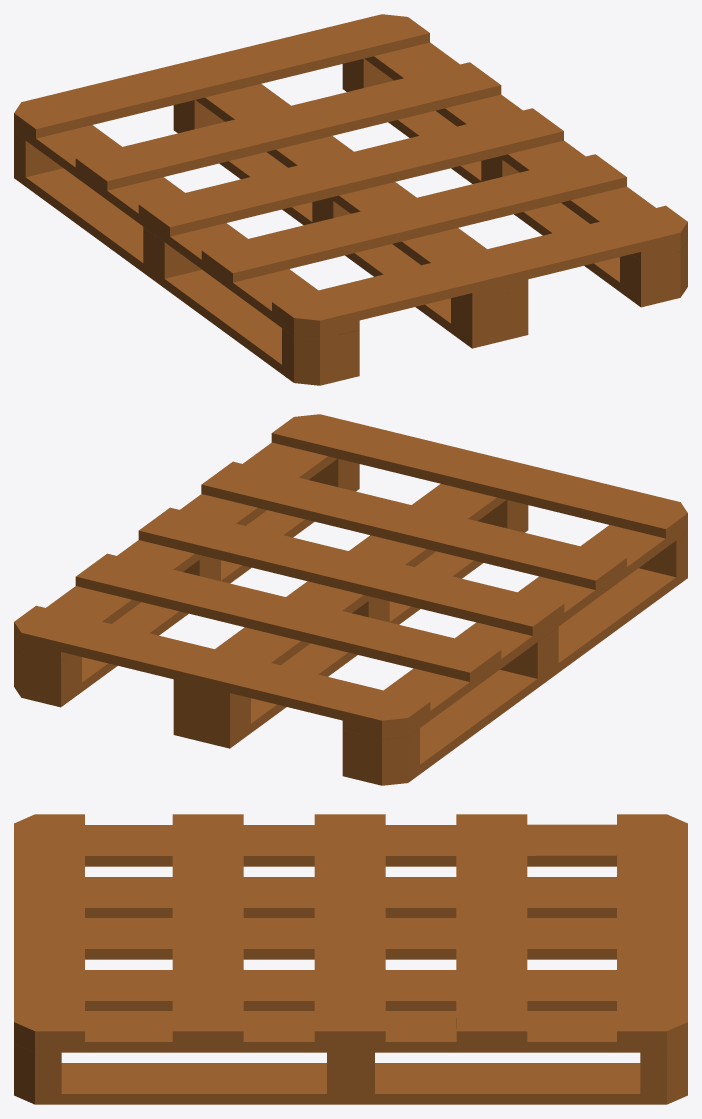
Rendered from Prop_Pallet_Small.fbx.
3 renders of one model, top to bottom at view 1: azimuth 30°, elevation 25°; view 2: azimuth 150°, elevation 25°; view 3: azimuth 270°, elevation 25°, orthographic. The views are drawn at different scales.
Visible parts, largest first — view 1: Prop_Pallet_Small; view 2: Prop_Pallet_Small; view 3: Prop_Pallet_Small.
Part boxes in pixels (bbox=[...]): Prop_Pallet_Small: bbox=[14, 14, 687, 385]; Prop_Pallet_Small: bbox=[14, 414, 687, 785]; Prop_Pallet_Small: bbox=[14, 814, 687, 1104].
Size of the model in its own units: 111 by 84.28 by 13.3.
